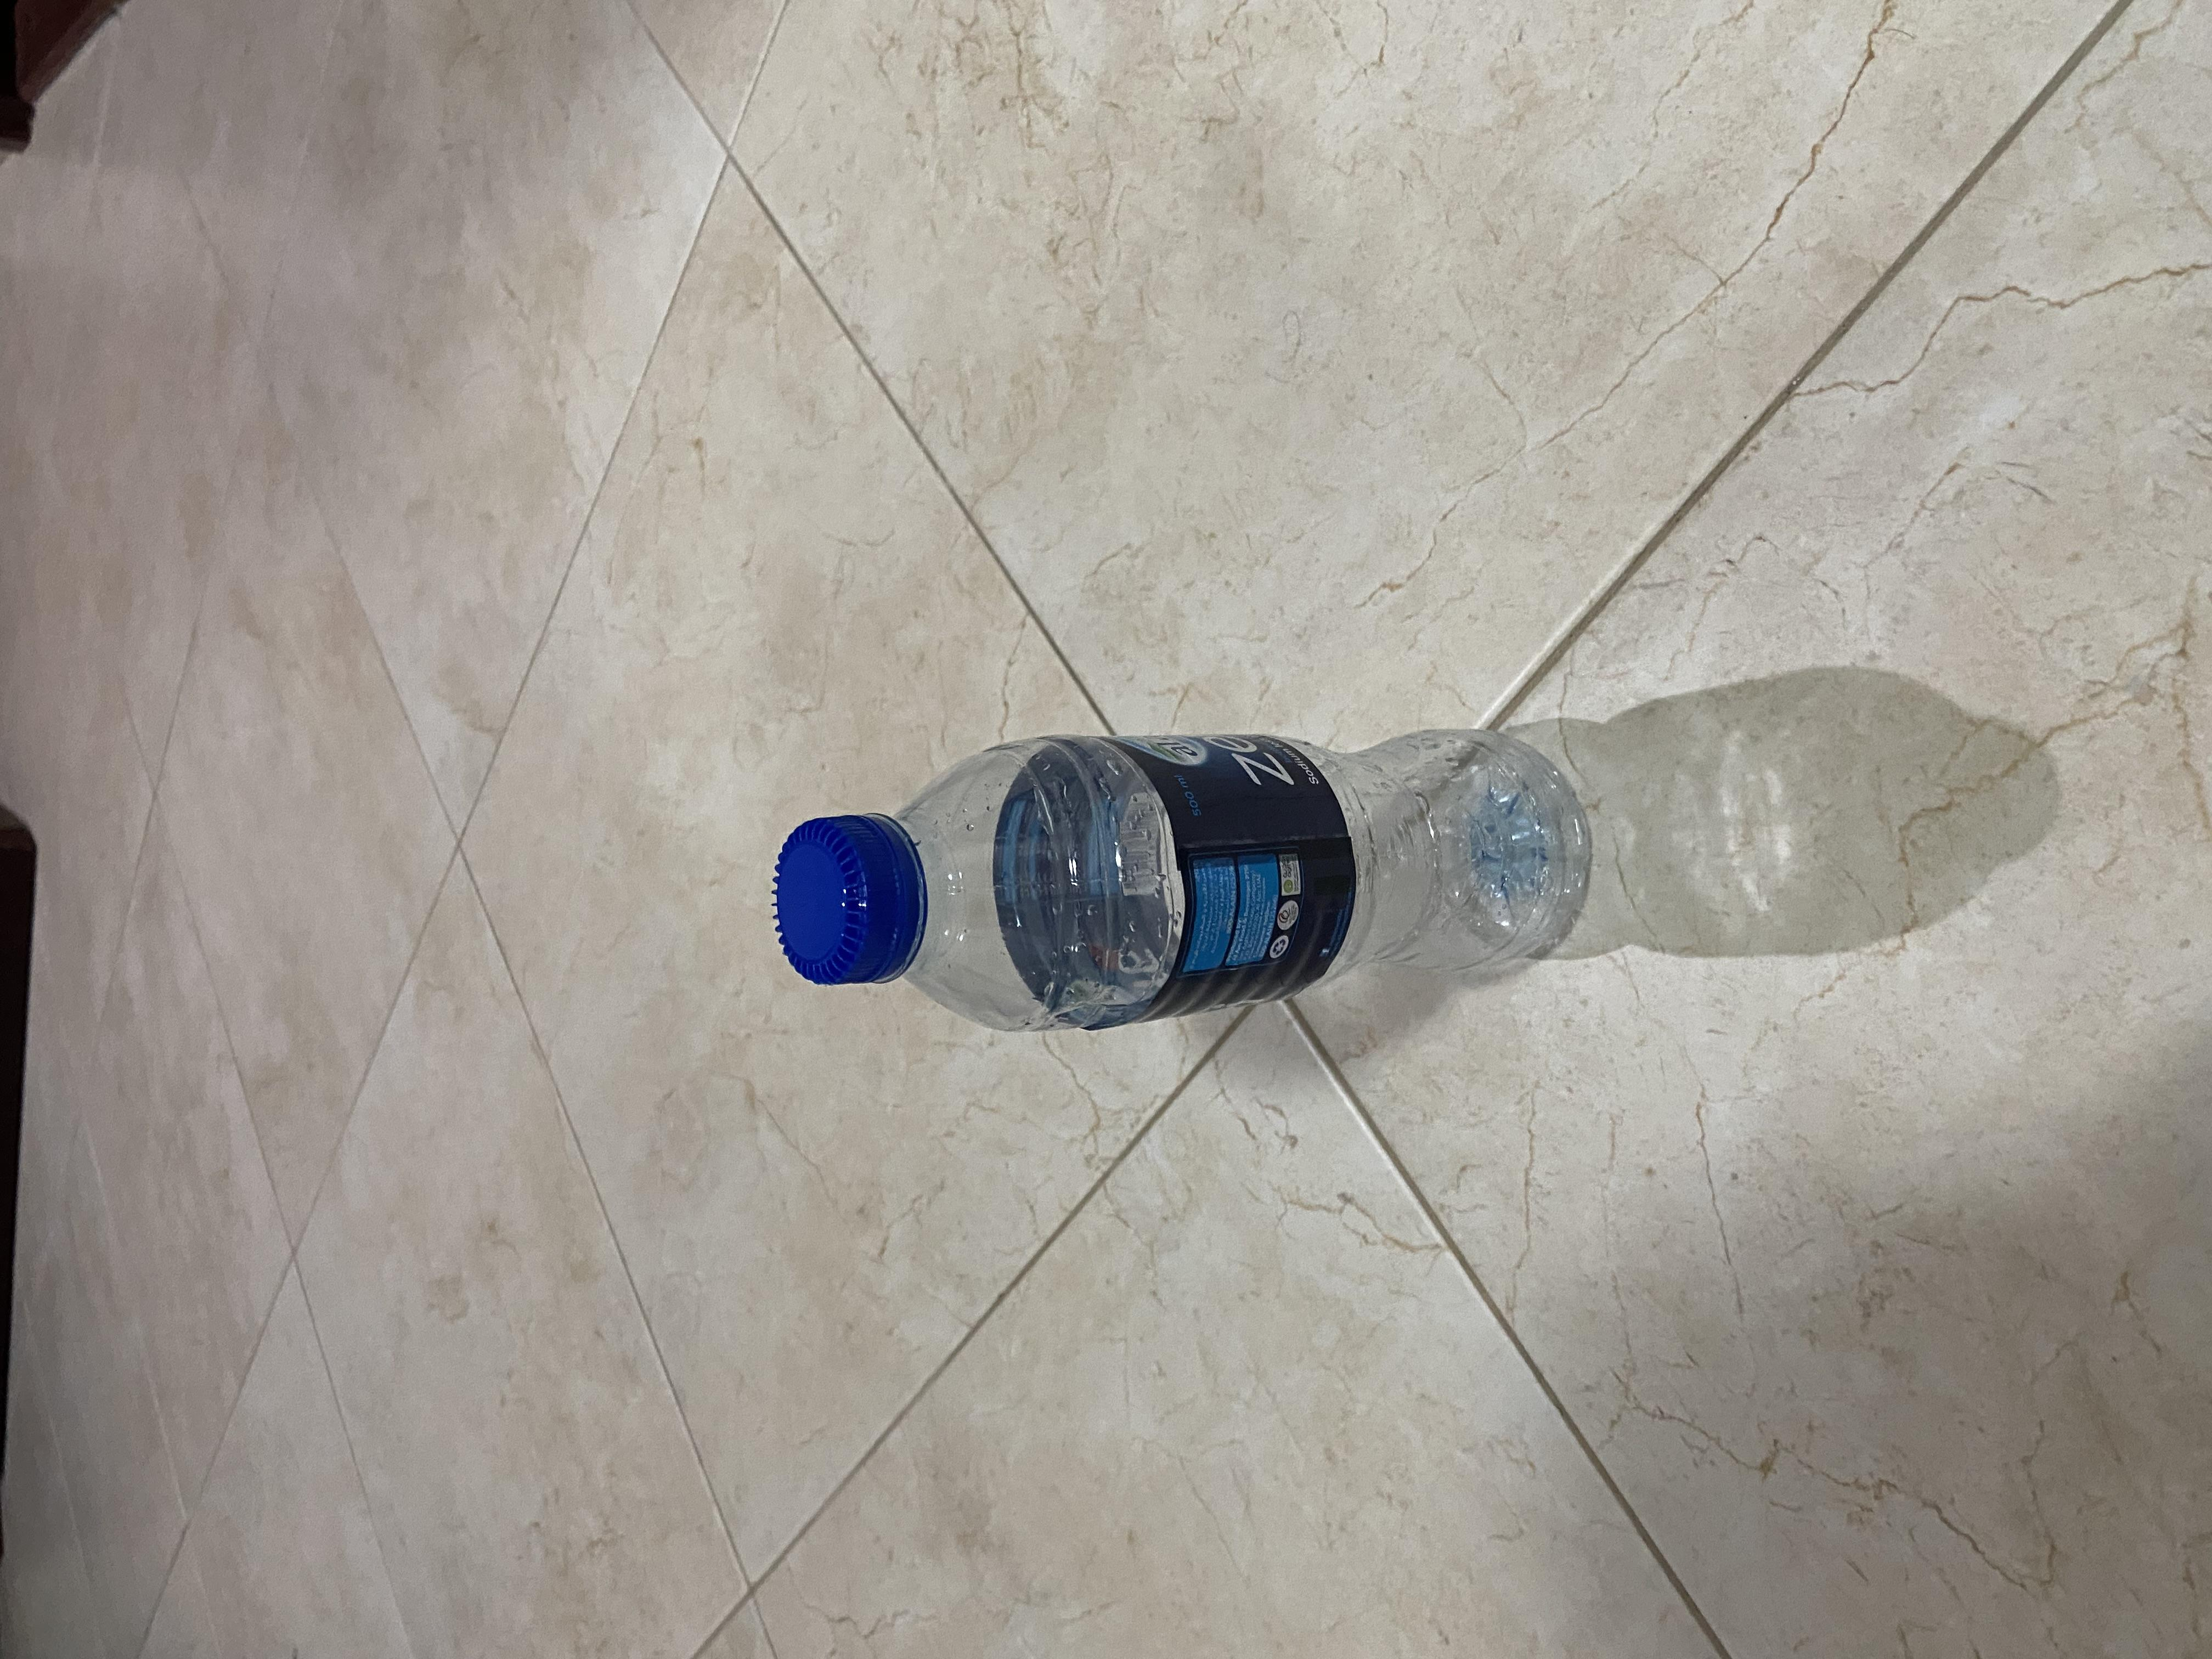bottle: (805, 565, 1268, 1204)
